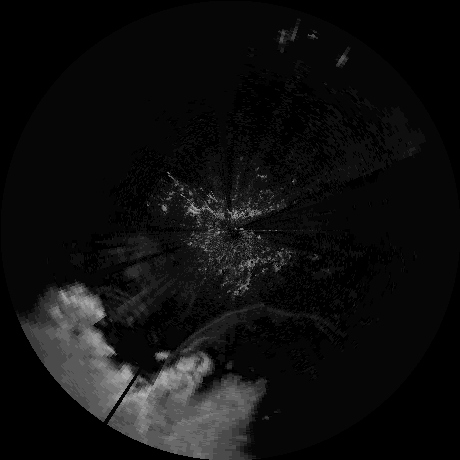frontgust: (175, 304, 328, 348)
